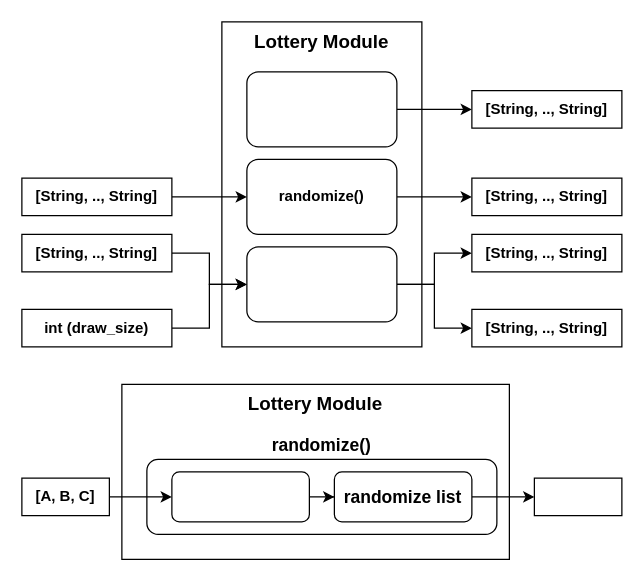
This 644x581 diagram has some shape labels left out. The box of each missing label's shape, as (x1, y1, x2, y2) in pixels:
[C, A, B]: (533, 477, 622, 516)
copy list: (171, 471, 309, 522)
distribute(): (246, 246, 397, 322)
generate_pool(): (246, 71, 397, 147)
